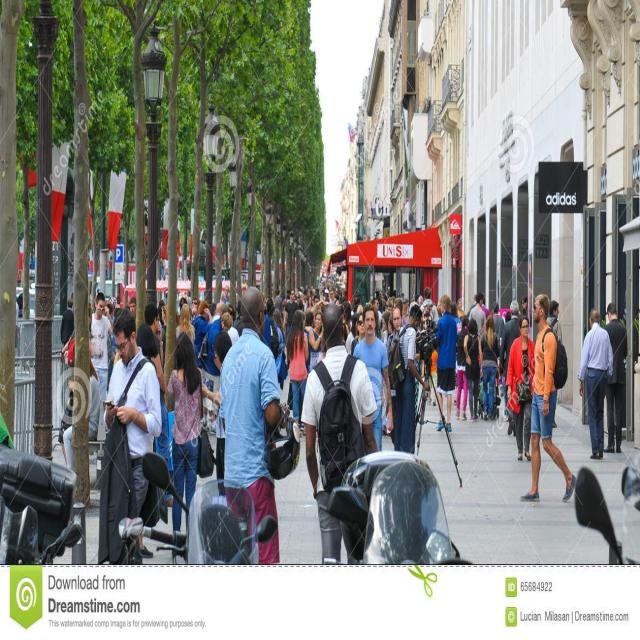body: (95, 259, 529, 330), (217, 281, 302, 632), (301, 301, 379, 566), (97, 304, 162, 563), (520, 292, 576, 504), (165, 331, 205, 538), (352, 302, 394, 453), (144, 302, 174, 506), (393, 302, 431, 456), (576, 306, 613, 460), (201, 330, 233, 497), (136, 323, 161, 530), (62, 354, 101, 472), (505, 315, 536, 462), (201, 309, 234, 435), (602, 301, 628, 455), (498, 298, 522, 435), (435, 293, 458, 434), (89, 292, 113, 416), (286, 309, 310, 433), (546, 300, 563, 429), (463, 316, 483, 422), (480, 312, 499, 422), (454, 315, 472, 421), (191, 300, 213, 369), (449, 301, 462, 406), (492, 302, 506, 399), (272, 308, 288, 392), (308, 310, 325, 372), (419, 286, 440, 334), (284, 287, 300, 347), (468, 291, 487, 341), (175, 302, 196, 344), (59, 297, 75, 348), (386, 306, 403, 351), (351, 312, 366, 357), (345, 312, 360, 356), (342, 301, 354, 345), (185, 276, 206, 296), (466, 292, 478, 318), (479, 296, 490, 321), (457, 297, 467, 321), (221, 284, 231, 306), (128, 296, 136, 320), (521, 295, 528, 317)
